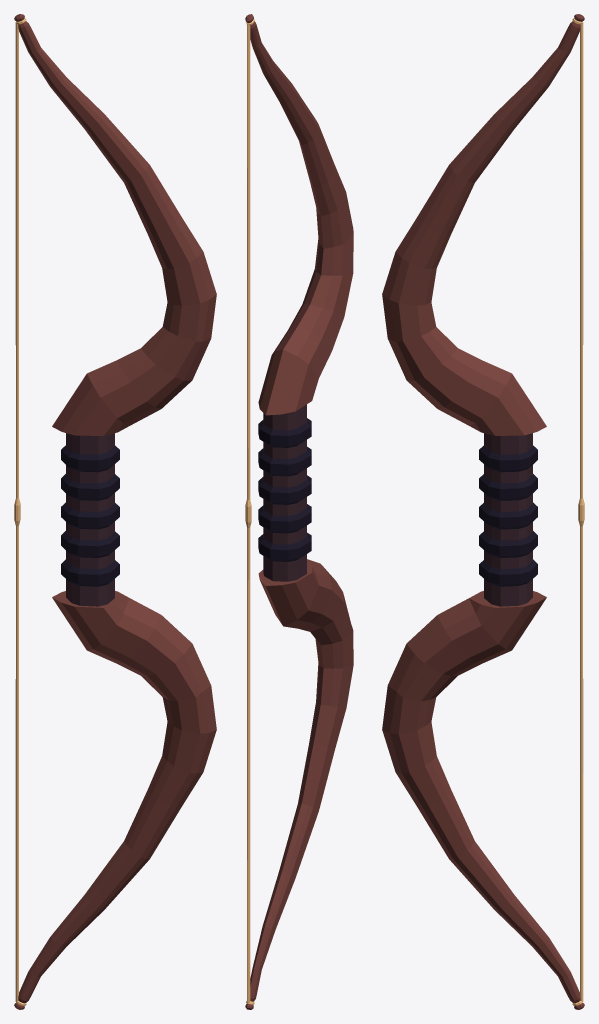
The model's file is Bow 03.fbx.
3 renders of one model, left to right at view 1: azimuth 90°, elevation 25°; view 2: azimuth 150°, elevation 25°; view 3: azimuth 270°, elevation 25°, orthographic.
Visible parts, largest first — view 1: Bow 03, Bow 03 String; view 2: Bow 03, Bow 03 String; view 3: Bow 03, Bow 03 String.
Part boxes in pixels (left/top/right/bottom): Bow 03: left=14, top=14, right=216, bottom=1009; Bow 03 String: left=14, top=18, right=26, bottom=1005; Bow 03: left=245, top=14, right=353, bottom=1009; Bow 03 String: left=245, top=19, right=254, bottom=1004; Bow 03: left=382, top=14, right=584, bottom=1009; Bow 03 String: left=572, top=18, right=584, bottom=1005.
Size of the model in its own units: 5.63 by 122 by 22.46.
